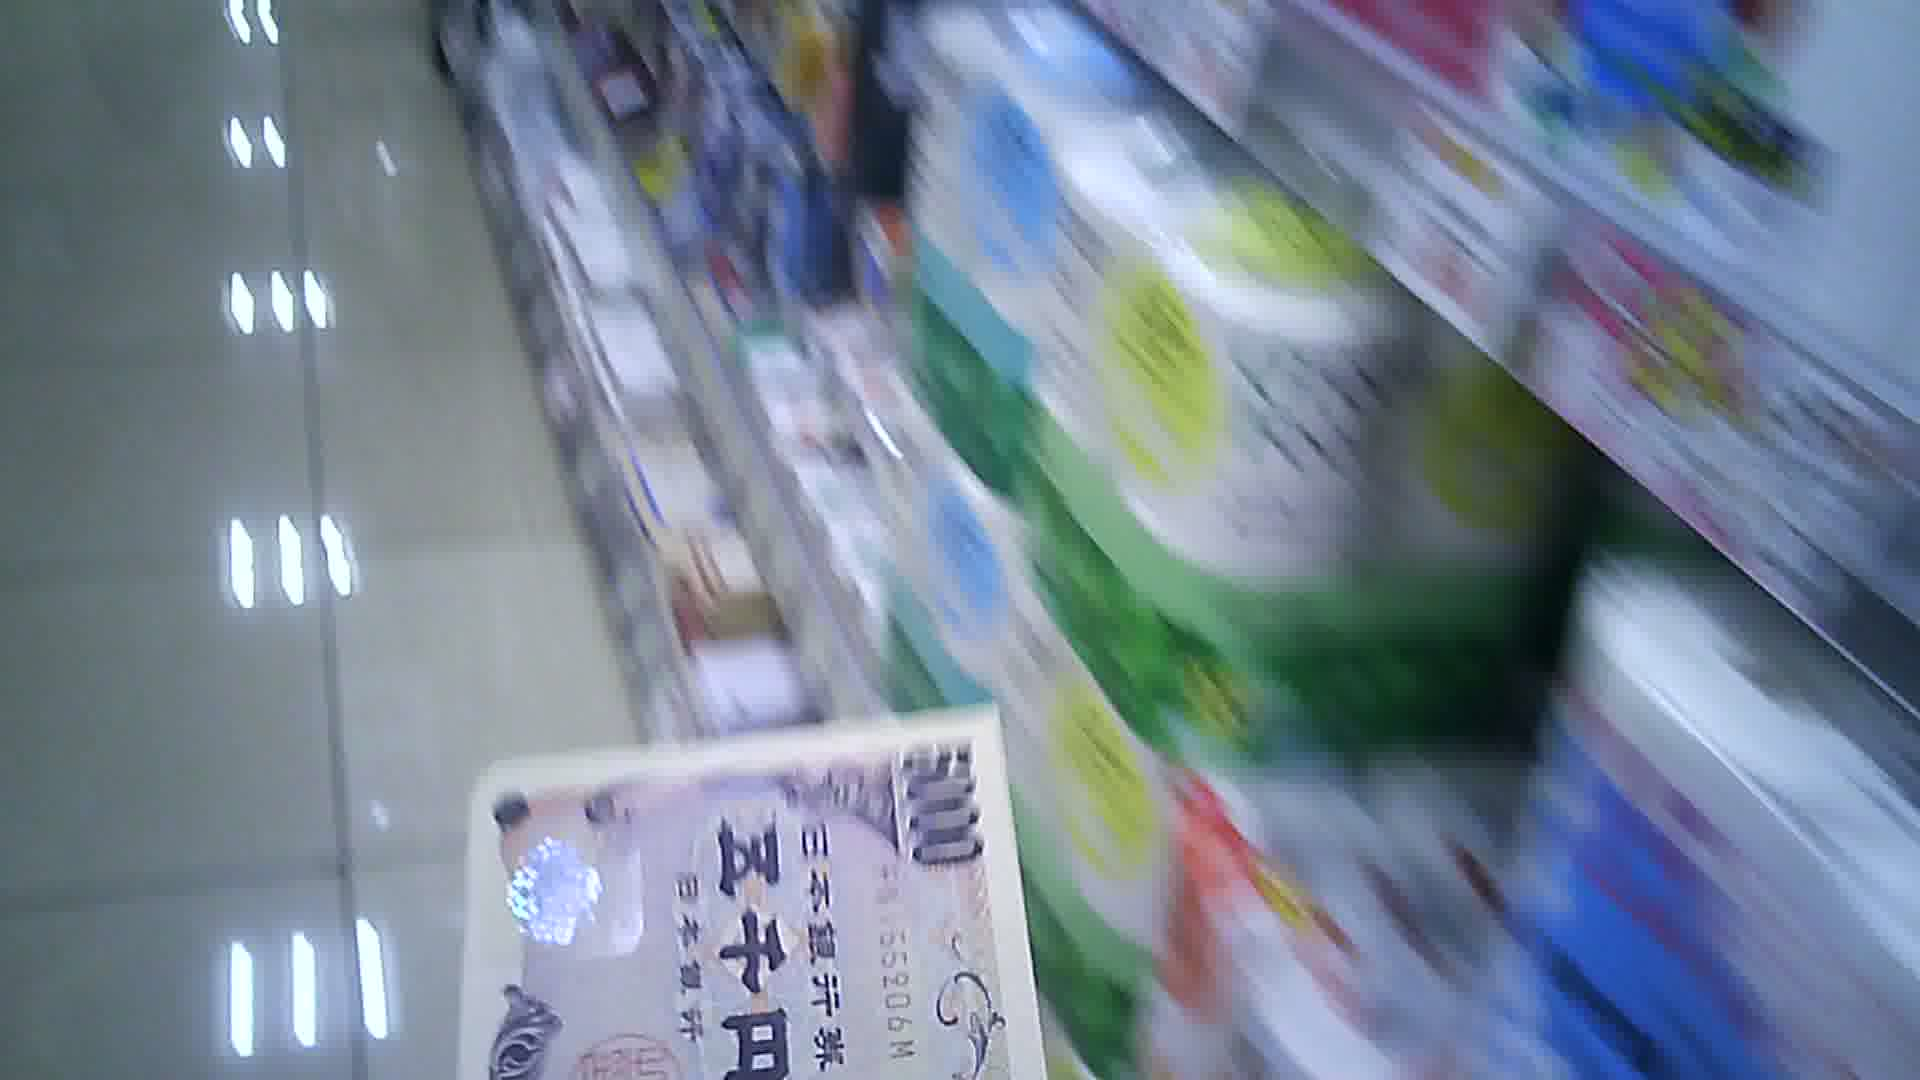5,000 Yen: (467, 745, 1056, 1077)
